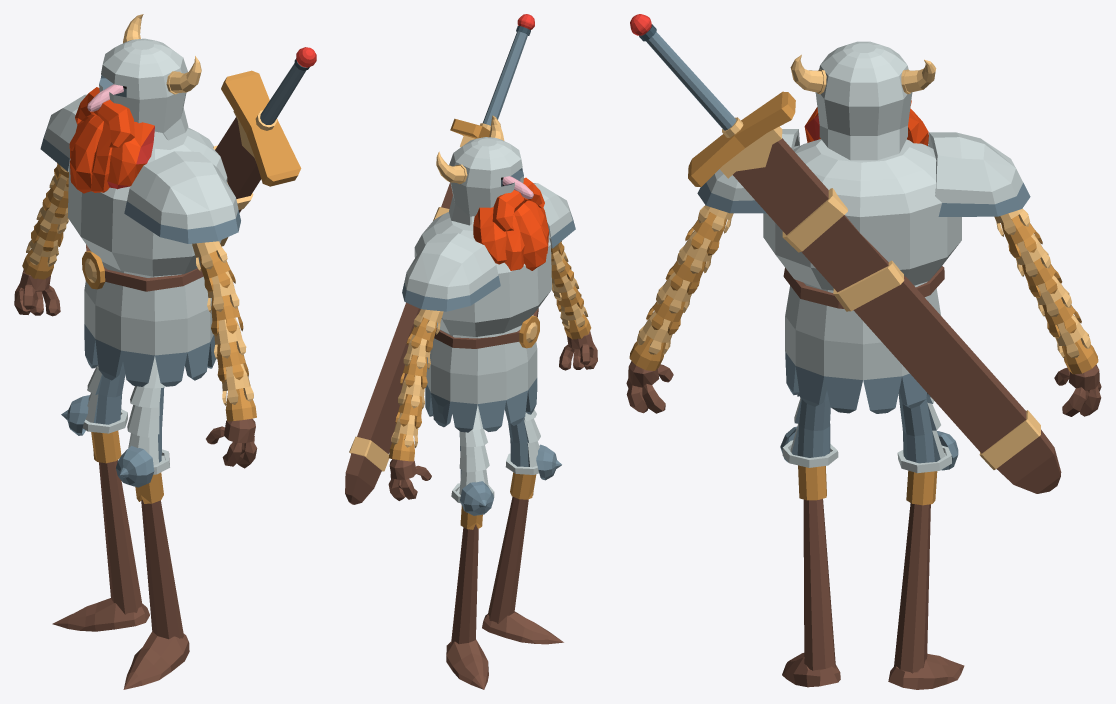
Rendered from 7aYuk5Rdlr-.glb.
3 renders of one model, left to right at view 1: azimuth 30°, elevation 25°; view 2: azimuth 150°, elevation 25°; view 3: azimuth 270°, elevation 25°, orthographic. The views are drawn at different scales.
Visible parts, largest first — view 1: group1477189456; view 2: group1477189456; view 3: group1477189456.
Boxes of the visible parts, x1,y1,x2,y2 form: group1477189456: [14, 14, 316, 689]; group1477189456: [345, 14, 597, 689]; group1477189456: [626, 14, 1101, 689].
Bounding box in the file's own units: 1.09 × 4.59 × 2.8.
1 material, 1 textured.
